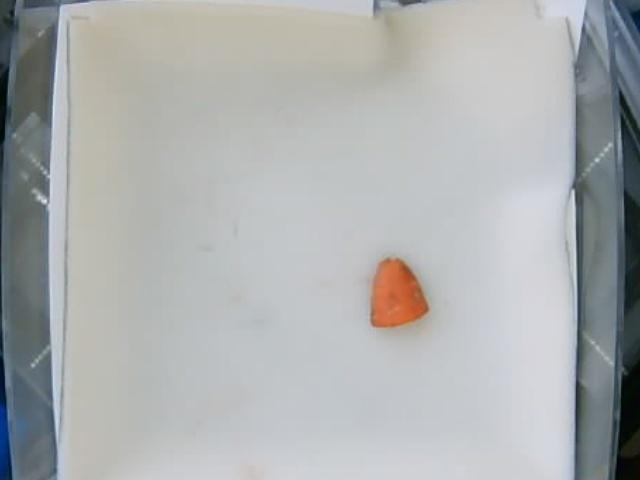Carrot: (371, 256, 430, 328)
